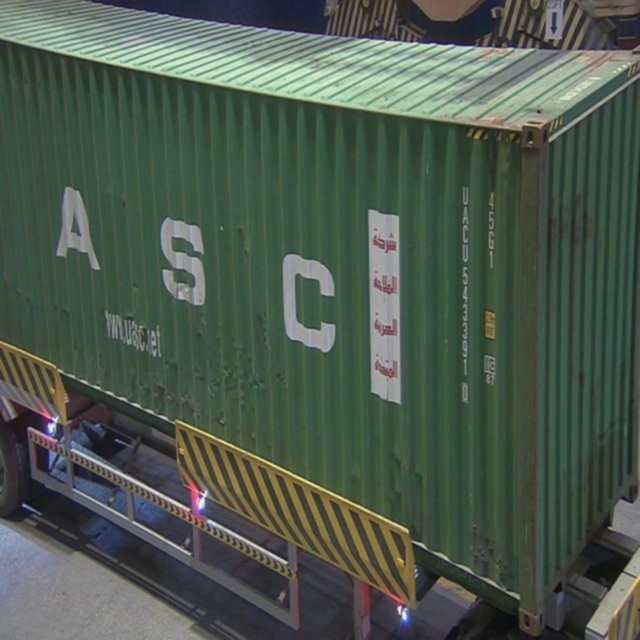Dent: (216, 336, 267, 414), (139, 369, 203, 425)
